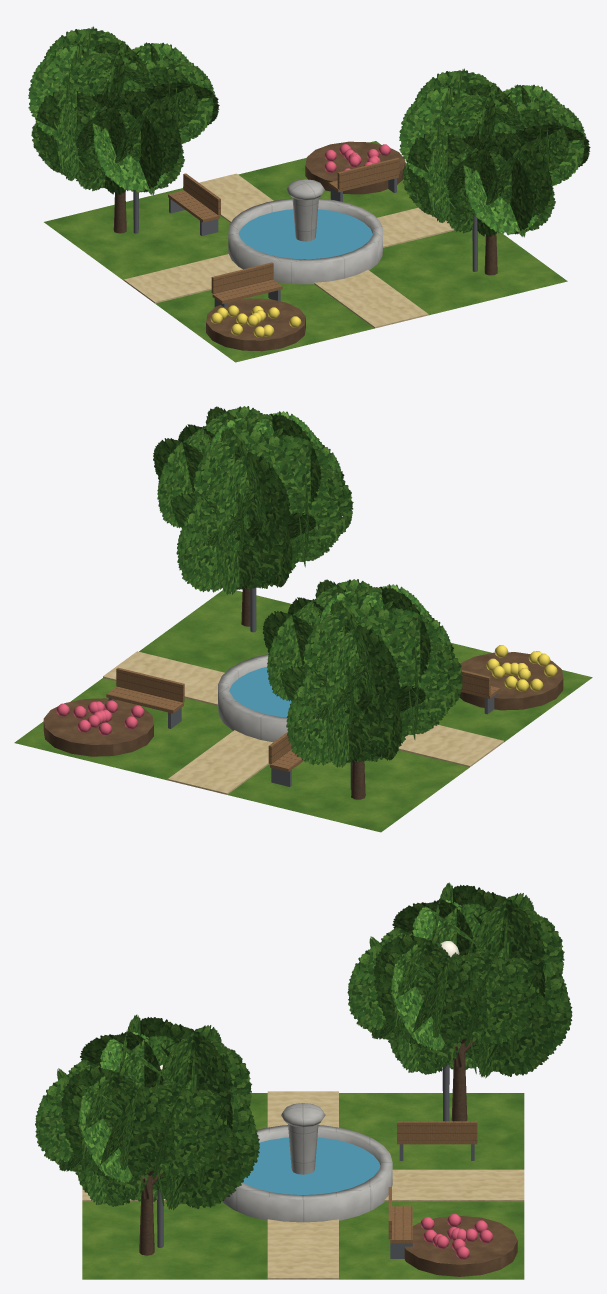
File: park_0.gltf
3 renders of one model, top to bottom at view 1: azimuth 30°, elevation 25°; view 2: azimuth 150°, elevation 25°; view 3: azimuth 270°, elevation 25°, orthographic. The views are drawn at different scales.
Visible parts, largest first — view 1: park_0; view 2: park_0; view 3: park_0.
Boxes of the visible parts, <box> form: park_0: <box>28,26,590,362</box>; park_0: <box>14,406,592,832</box>; park_0: <box>35,882,572,1279</box>.
Bounding box in the file's own units: 2.39 × 1.17 × 2.59.
Materials: 12 (7 with a texture image).
